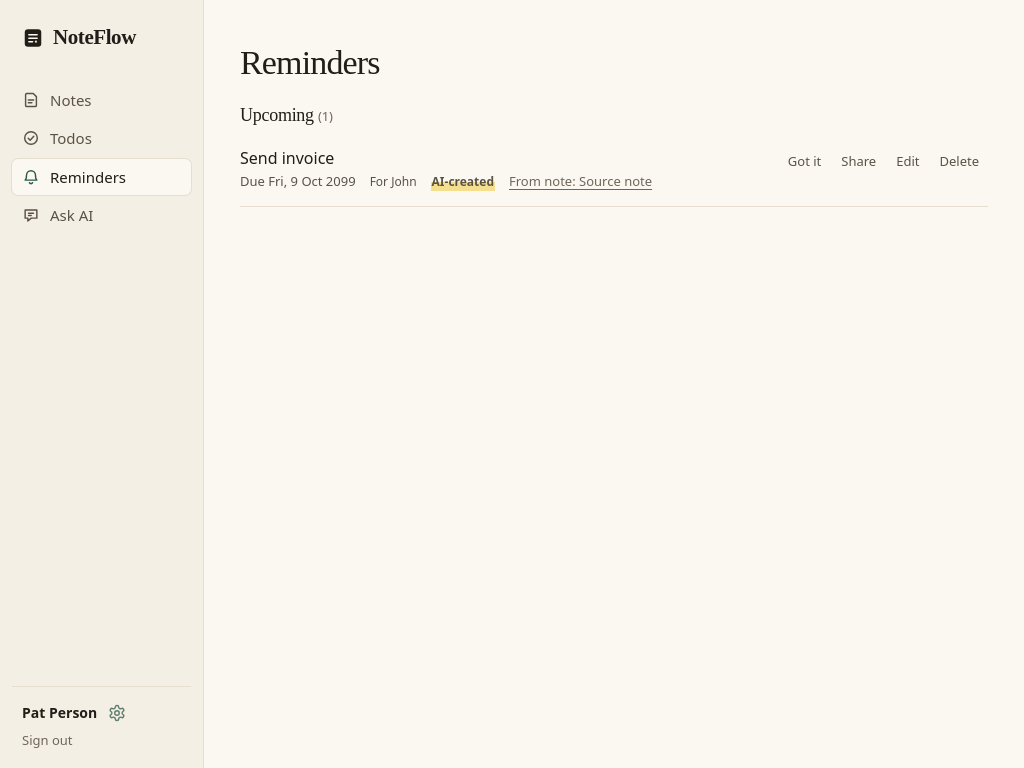
it: editing › leaves the time empty for a date-only reminder
The width and height of the screenshot is (1024, 768).
Click the button with aria-label "edit: send invoice".
click(908, 161)  # box [887,147,928,175]
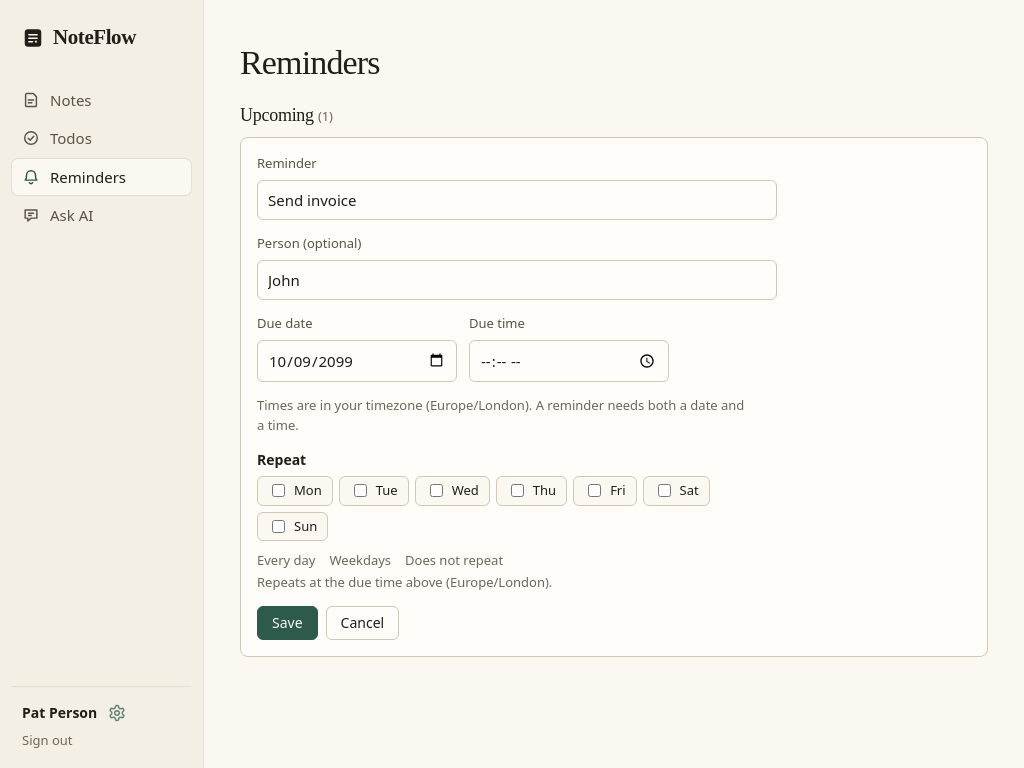
expect the date field labelled "Due date" holds "2099-10-09": met, box [257,340,457,382]
expect the time field labelled "Due time" is empty: met, box [469,340,669,382]
